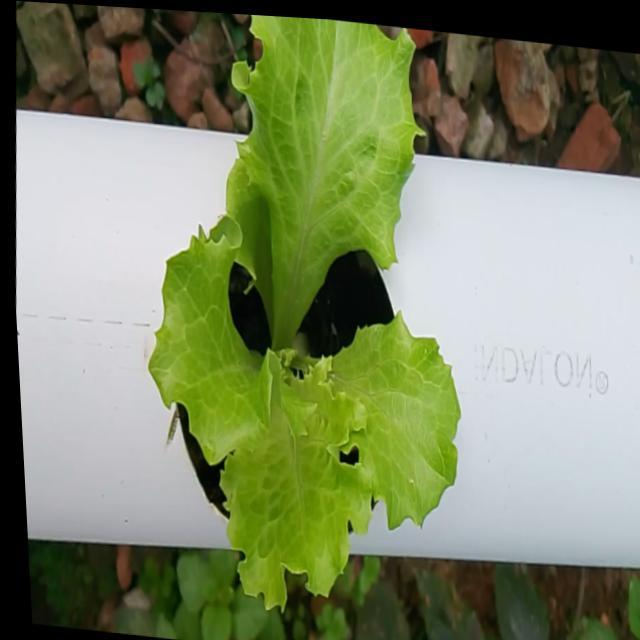Baby: (147, 15, 455, 617)
